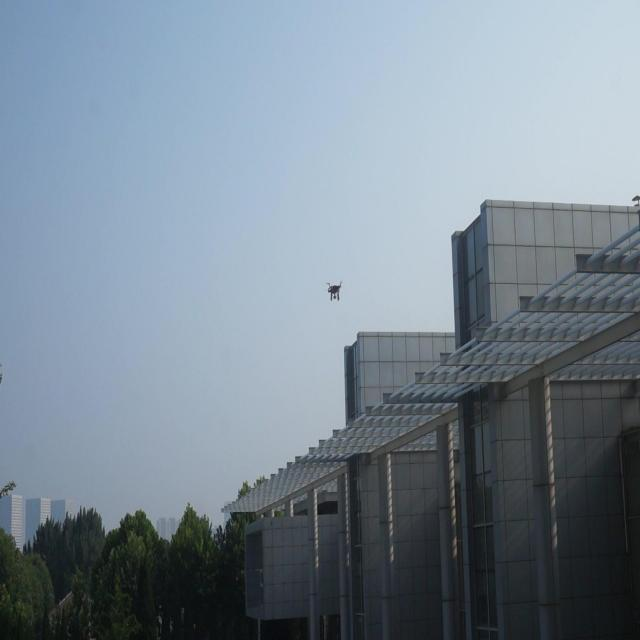UAV: (325, 281, 343, 302)
